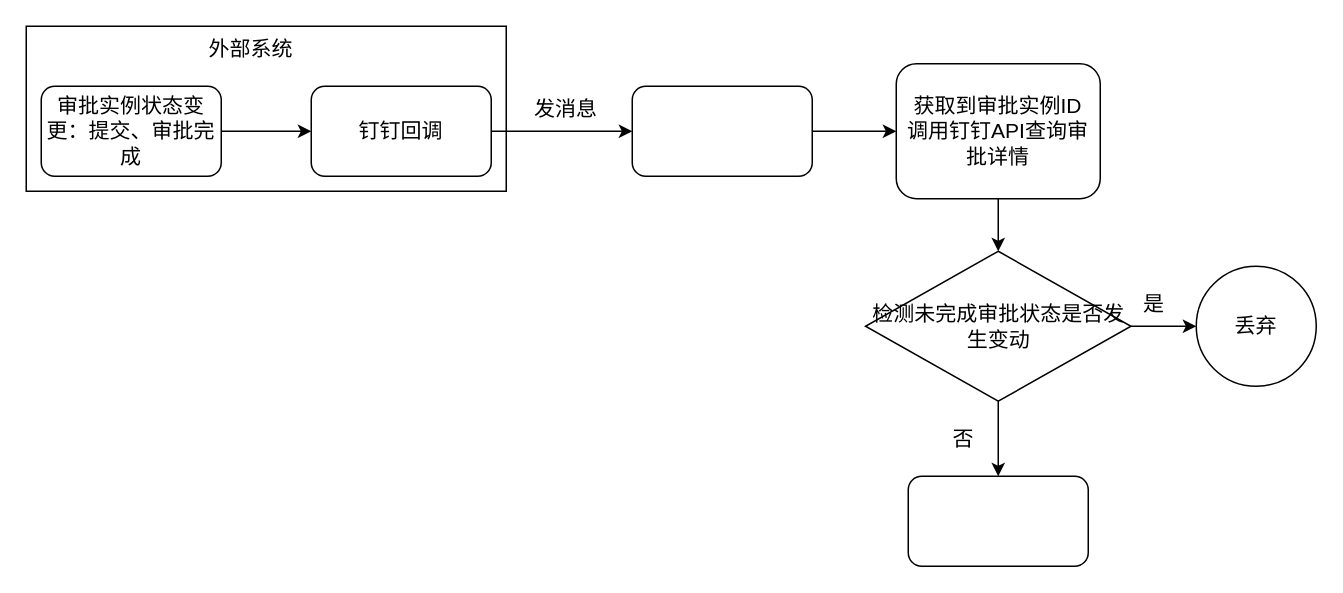
Image size: 1343x593. Some labels were removed from this diagram. Each missing label, with the centre of its shape:
存储到holo: (x=997, y=520)
应用的监听接口: (x=721, y=130)
